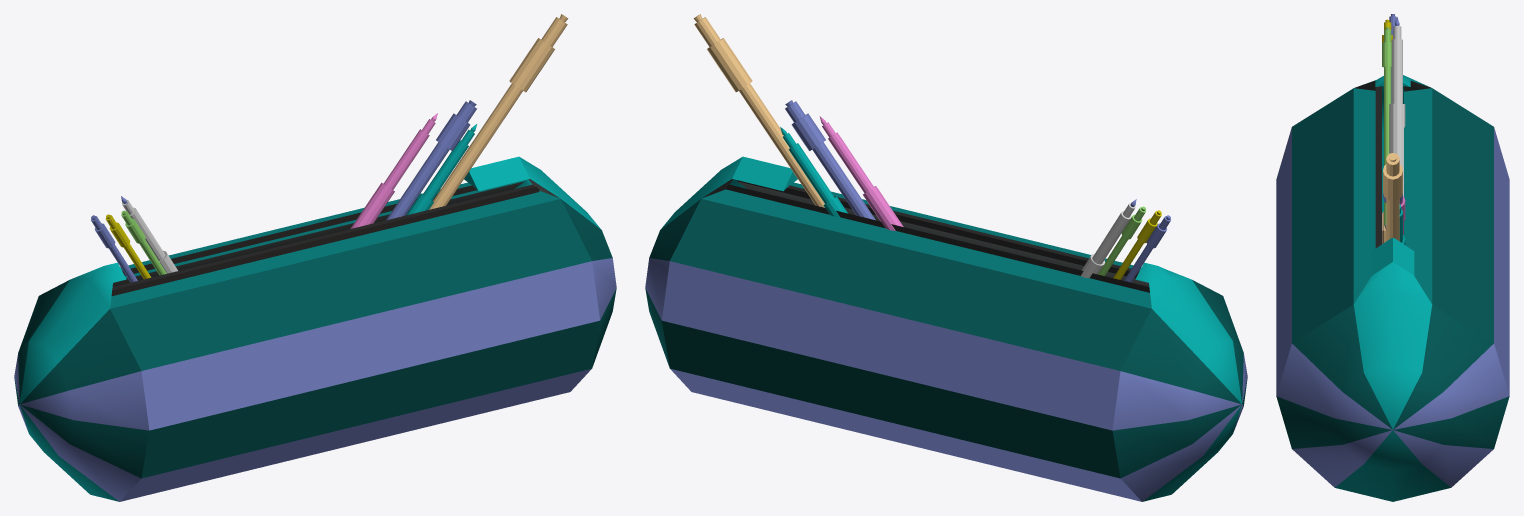
The model's file is Pencil_Case.fbx.
3 renders of one model, left to right at view 1: azimuth 30°, elevation 25°; view 2: azimuth 150°, elevation 25°; view 3: azimuth 270°, elevation 25°, orthographic.
Parts seen in each view (by area): view 1: CAse, Pencil, Pen, blackmarker, tose, blueMarker, pencil, pencil5, Pencil7; view 2: CAse, Pencil, Pen, blackmarker, tose, blueMarker, Pencil7, pencil5, pencil; view 3: CAse, blueMarker, Pencil, pencil5.
Part boxes in pixels (box(x1,y1,x2,y2)): CAse: box(14, 156, 616, 501); Pencil: box(429, 14, 568, 209); Pen: box(386, 100, 476, 220); blackmarker: box(350, 113, 437, 228); tose: box(406, 124, 476, 215); blueMarker: box(121, 196, 177, 273); pencil: box(91, 215, 137, 282); pencil5: box(121, 210, 166, 275); Pencil7: box(105, 214, 151, 279); CAse: box(645, 156, 1247, 501); Pencil: box(693, 14, 824, 207); Pen: box(785, 100, 875, 220); blackmarker: box(819, 116, 903, 230); tose: box(780, 127, 847, 217); blueMarker: box(1081, 199, 1136, 278); Pencil7: box(1113, 210, 1161, 279); pencil5: box(1098, 206, 1145, 275); pencil: box(1124, 215, 1170, 282); CAse: box(1276, 75, 1509, 501); blueMarker: box(1389, 17, 1405, 196); Pencil: box(1383, 153, 1402, 241); pencil5: box(1382, 27, 1391, 230).
Bounding box in the file's own units: 5.76 × 3.4 × 2.
